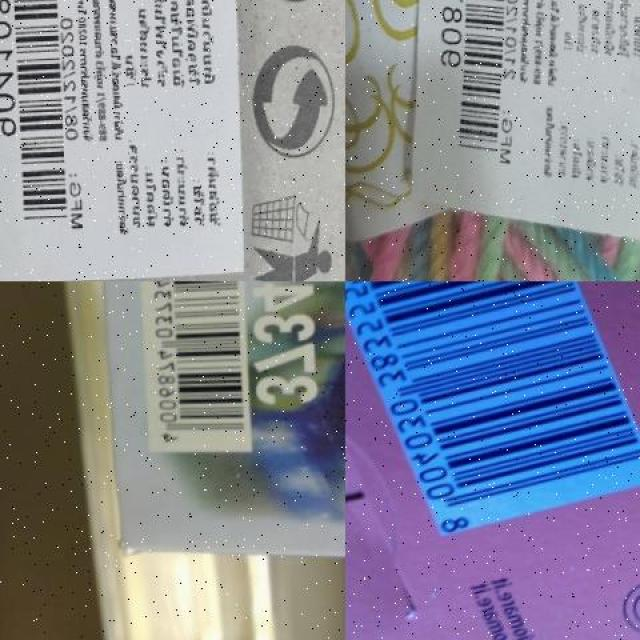Barcode: (345, 282, 640, 542), (136, 282, 247, 458), (426, 0, 526, 183), (0, 0, 69, 241)
